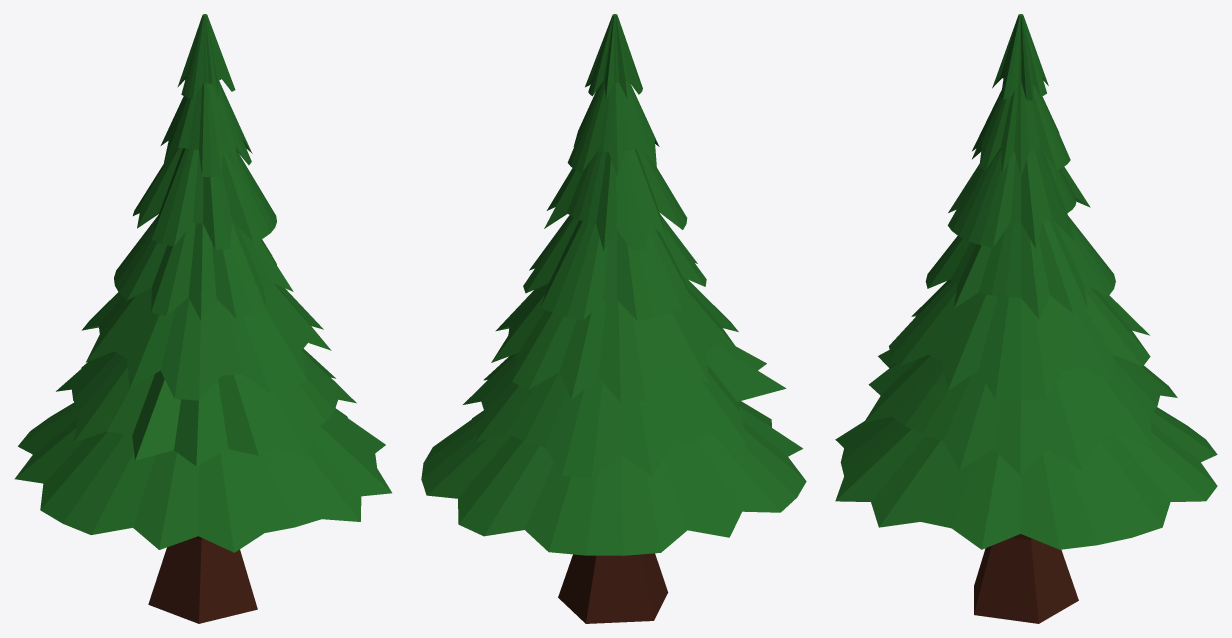
File: tree2.fbx
3 renders of one model, left to right at view 1: azimuth 30°, elevation 25°; view 2: azimuth 150°, elevation 25°; view 3: azimuth 270°, elevation 25°, orthographic.
Visible parts, largest first — view 1: tree2; view 2: tree2; view 3: tree2.
Part boxes in pixels (x1,y1,x2,y2): tree2: (14, 14, 391, 623); tree2: (421, 14, 806, 623); tree2: (835, 14, 1217, 623).
Size of the model in its own units: 506 by 866 by 512.
